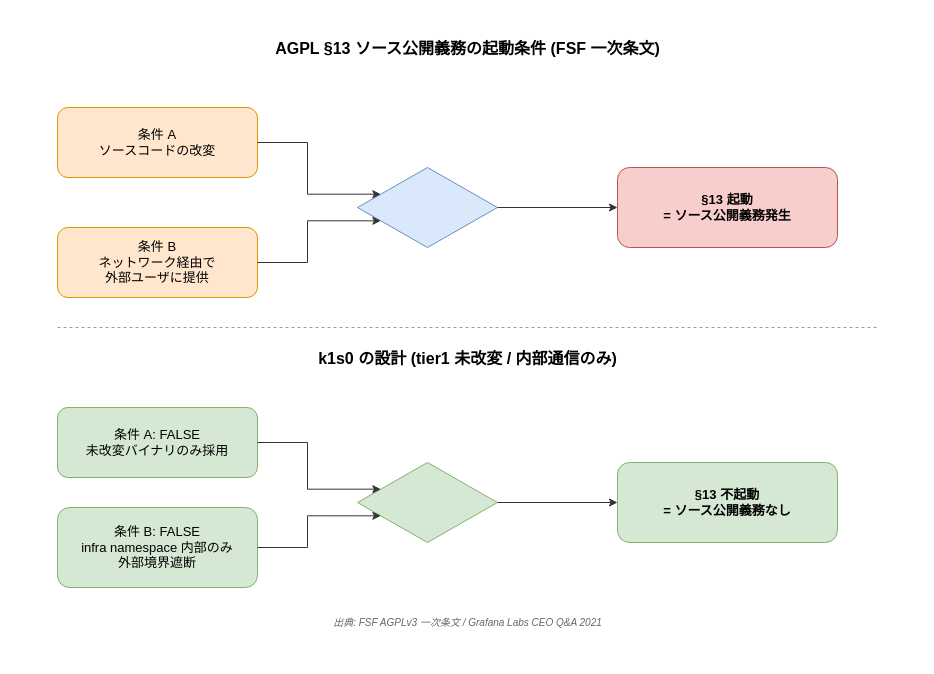
Some shapes in this 934 by 674 pixel diagram are drawn without their labels. The shapes that lost their labels are listed below. From the top down, each one's box as (x1, y1, x2, y2) in pixels, then its label:
(356, 166, 498, 248): AND (両方成立)
(356, 462, 498, 542): AND = FALSE
